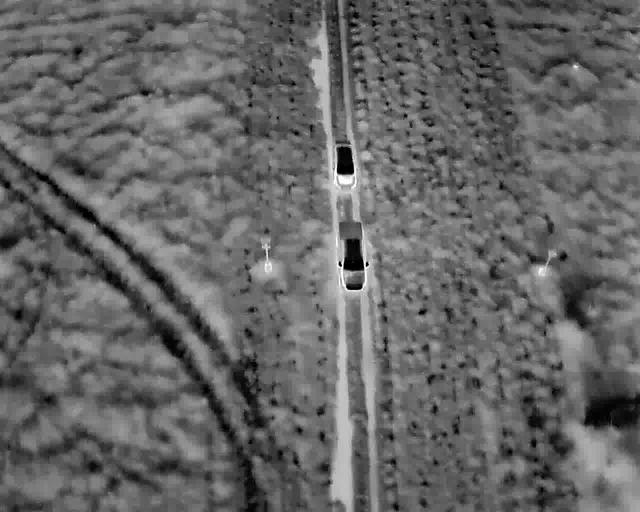car: (335, 220, 370, 291), (332, 141, 357, 190)
